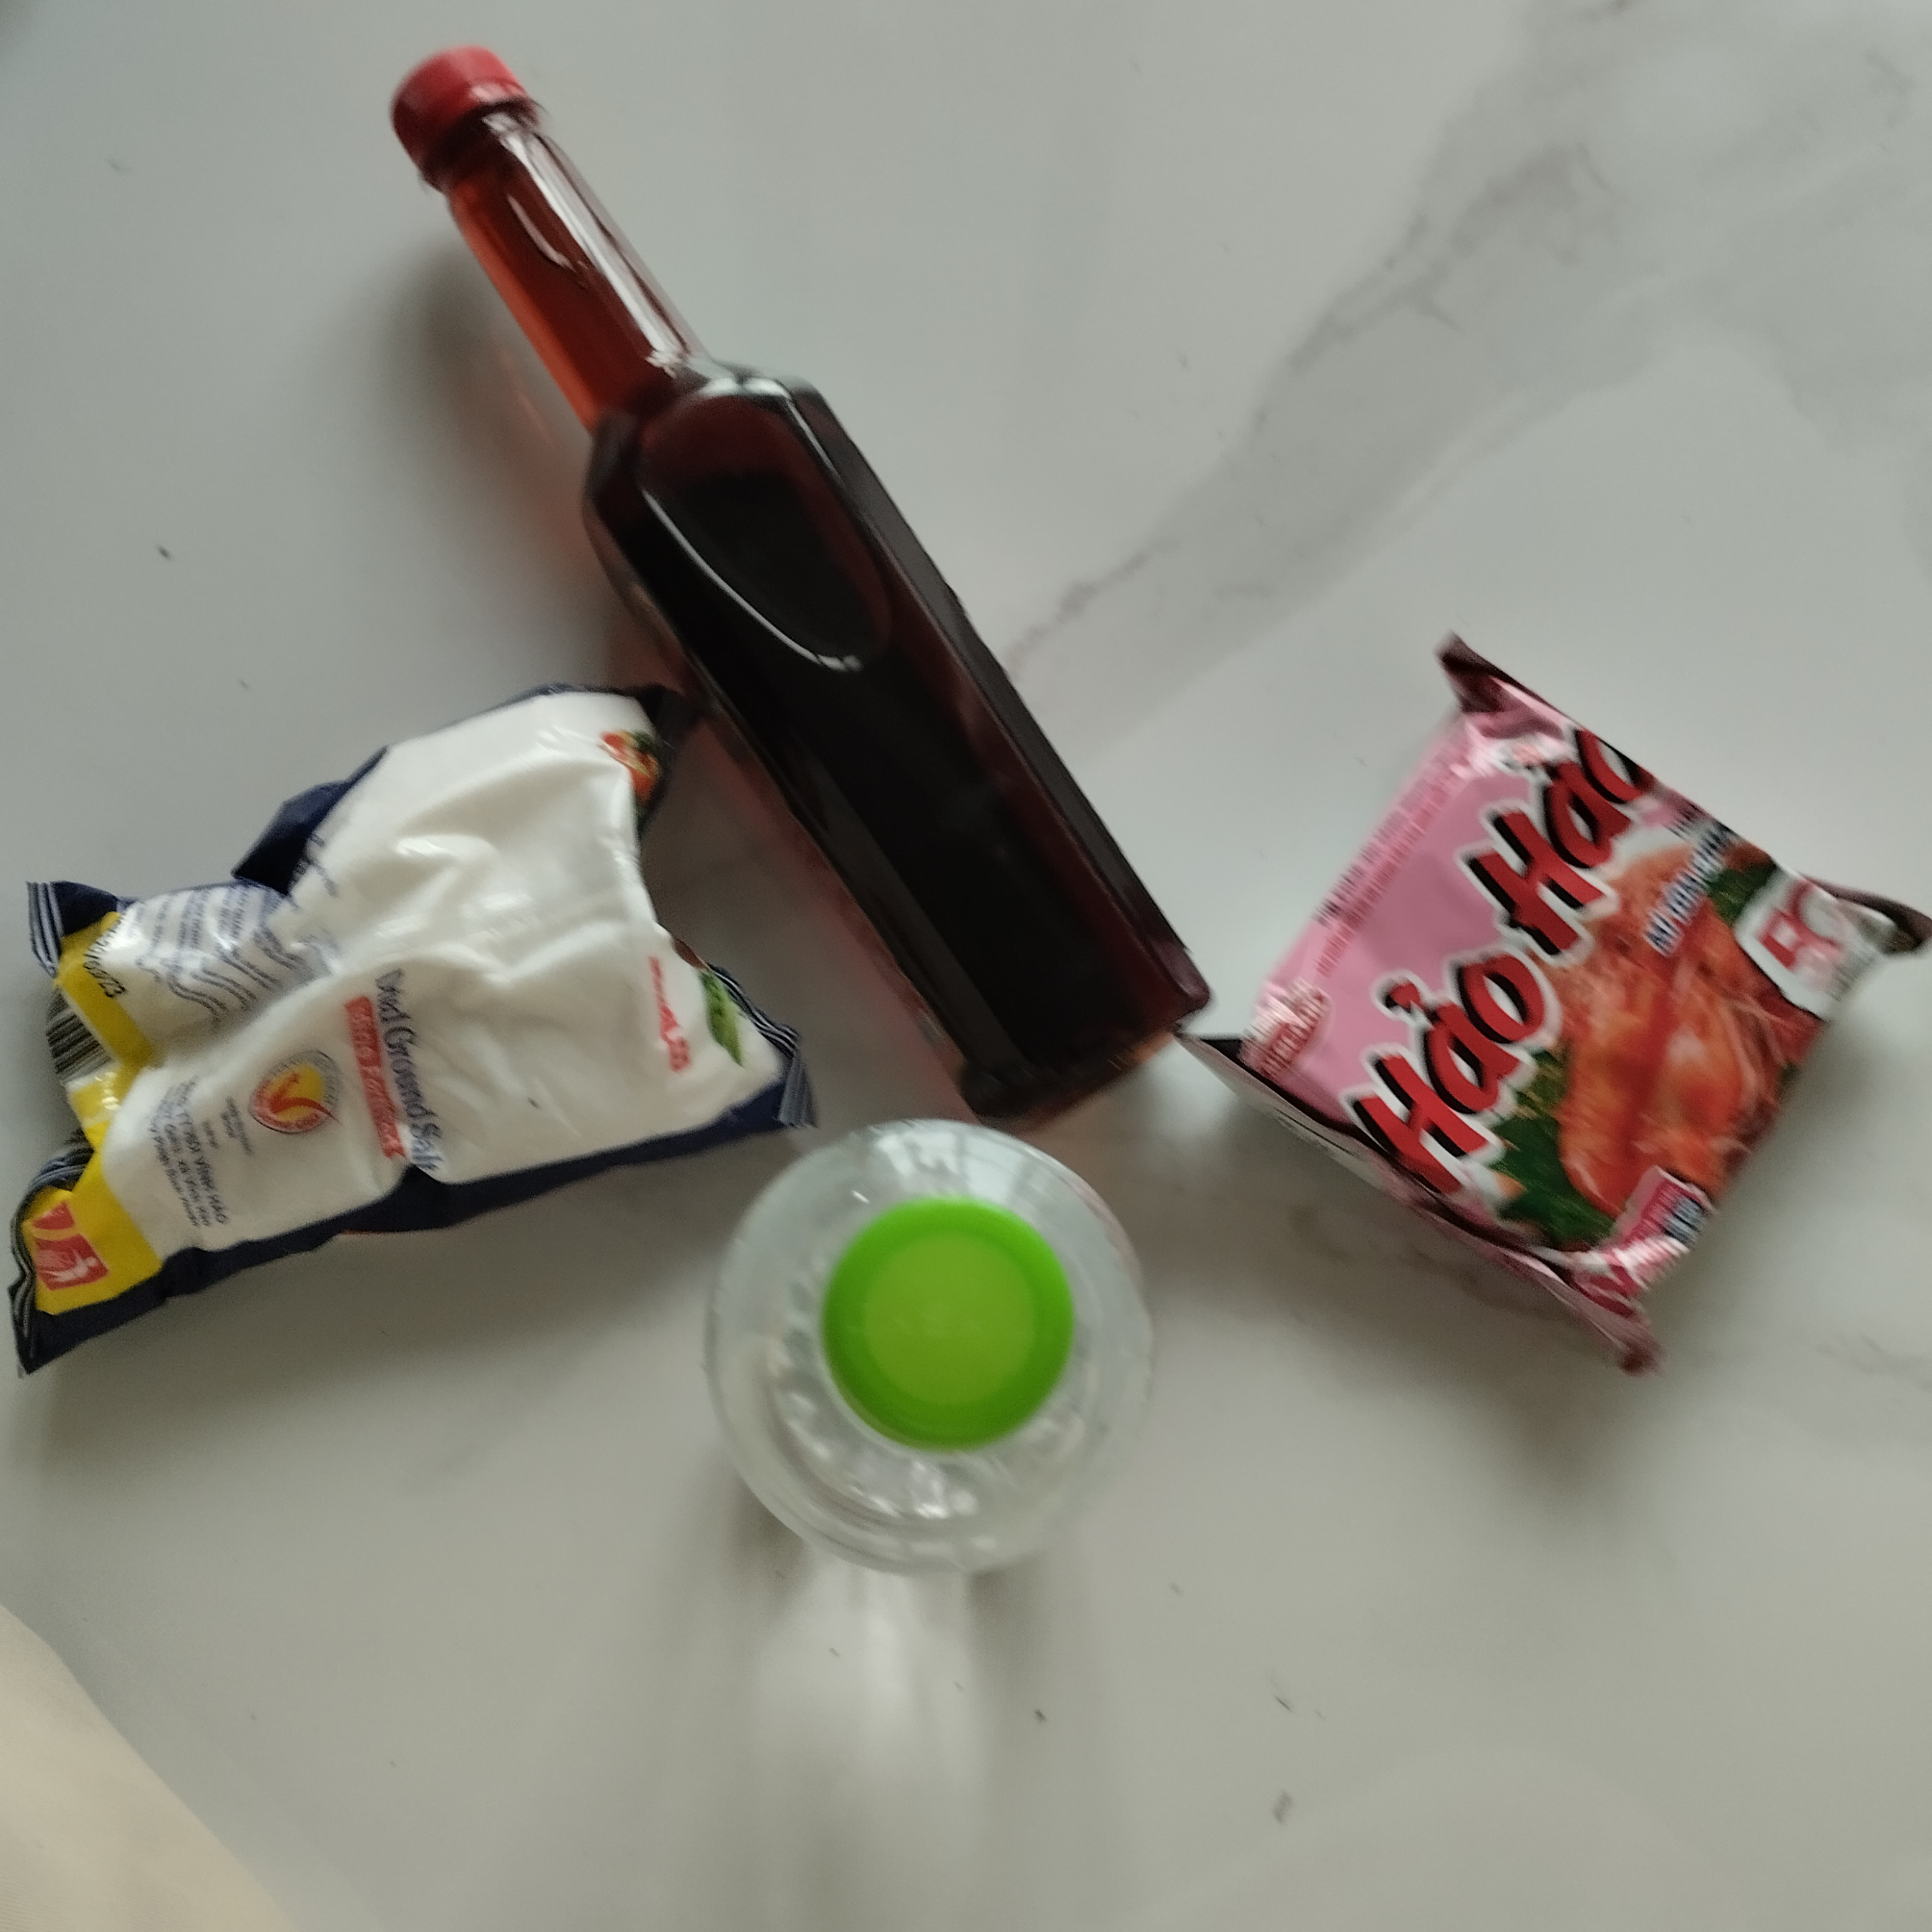Dasani: (702, 1116, 1164, 1568)
Haohao: (1191, 621, 1927, 1389)
Namngu: (373, 32, 1212, 1145)
Salt: (7, 669, 823, 1334)
